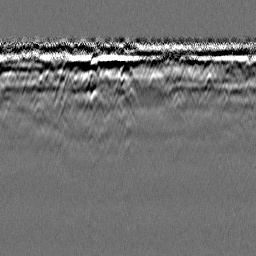cavity: (114, 64, 141, 105)
